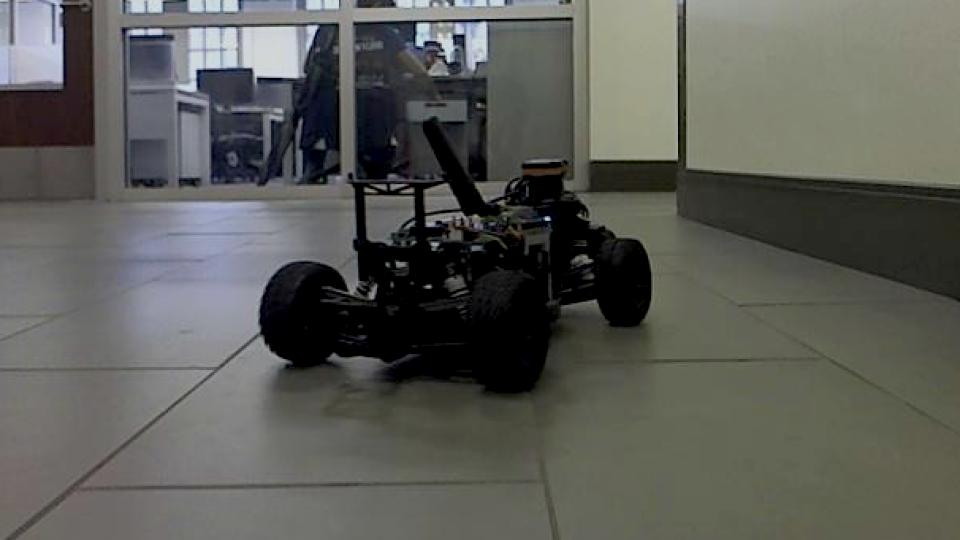car: (253, 113, 654, 394)
